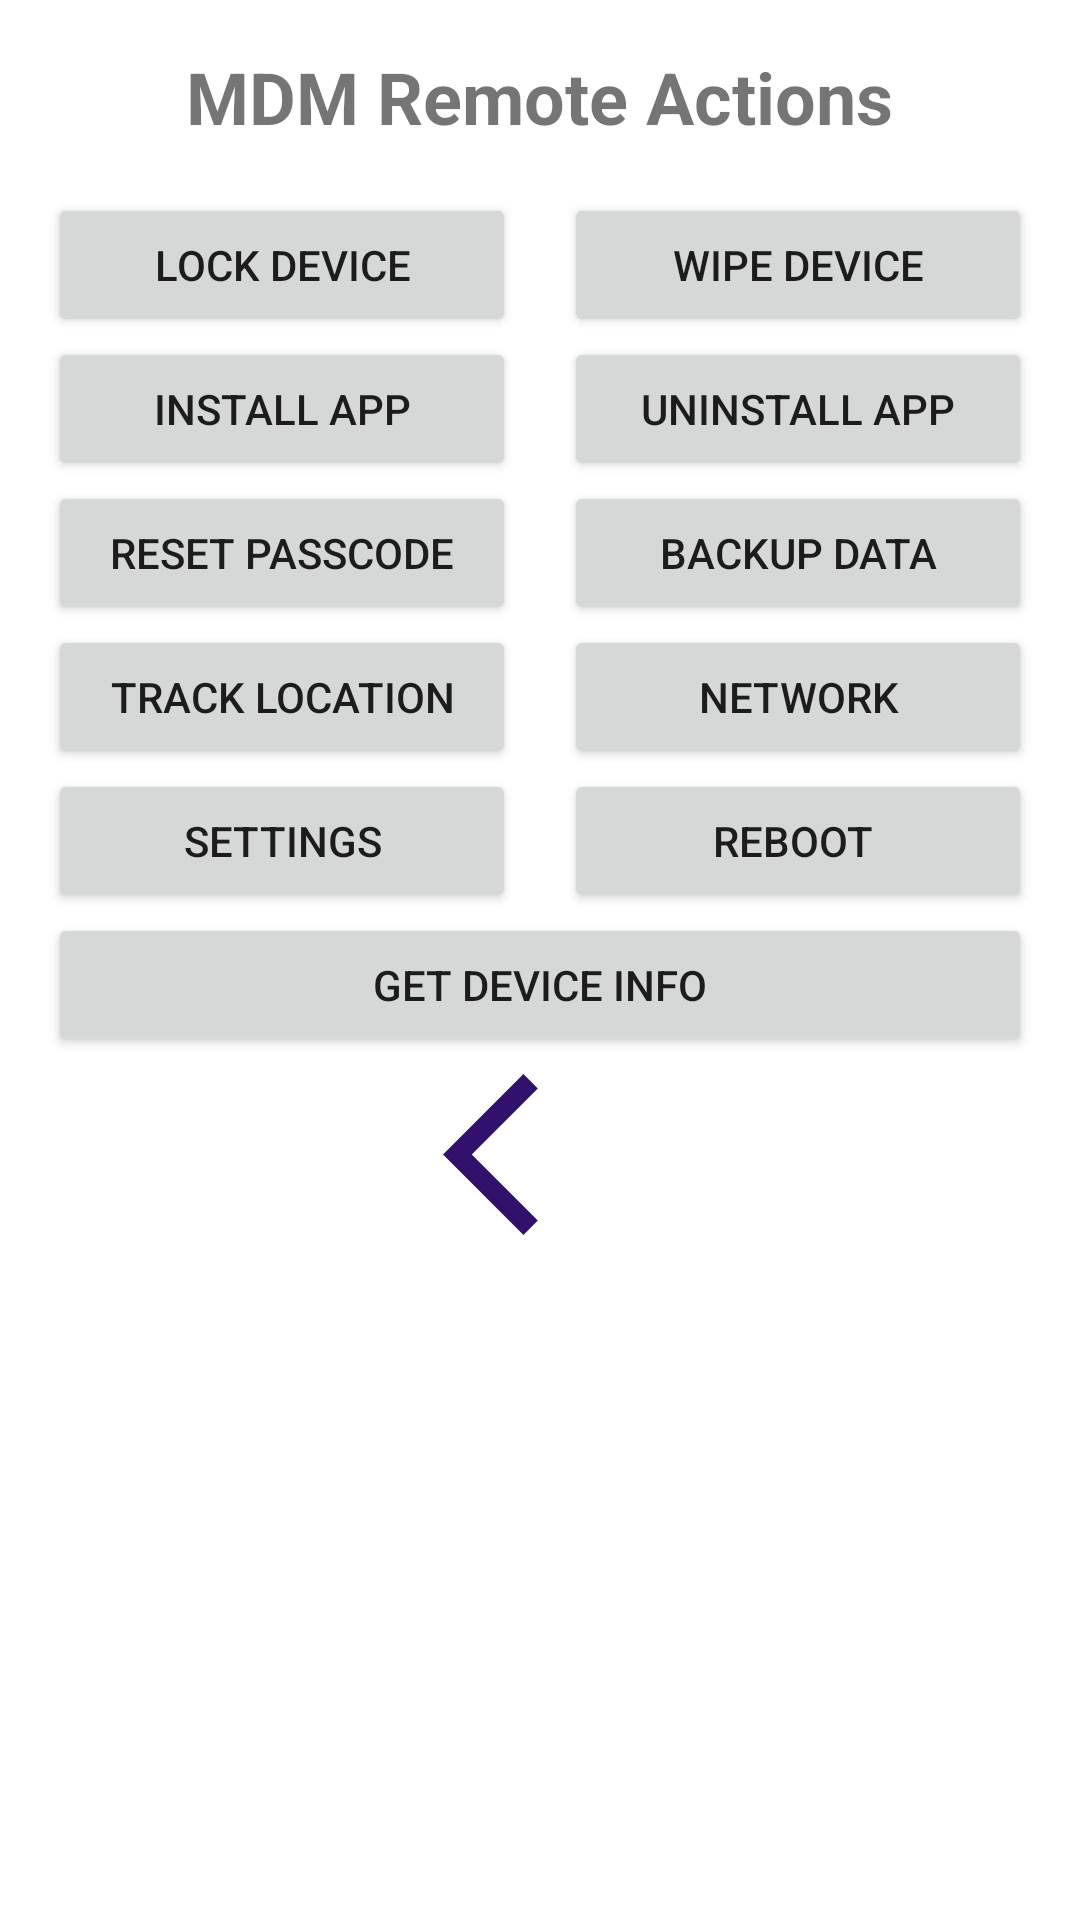

Screen size 1080px x 1920px. Icon name, then its center in pixels as point (x, y):
arrow back: point (490, 1154)
